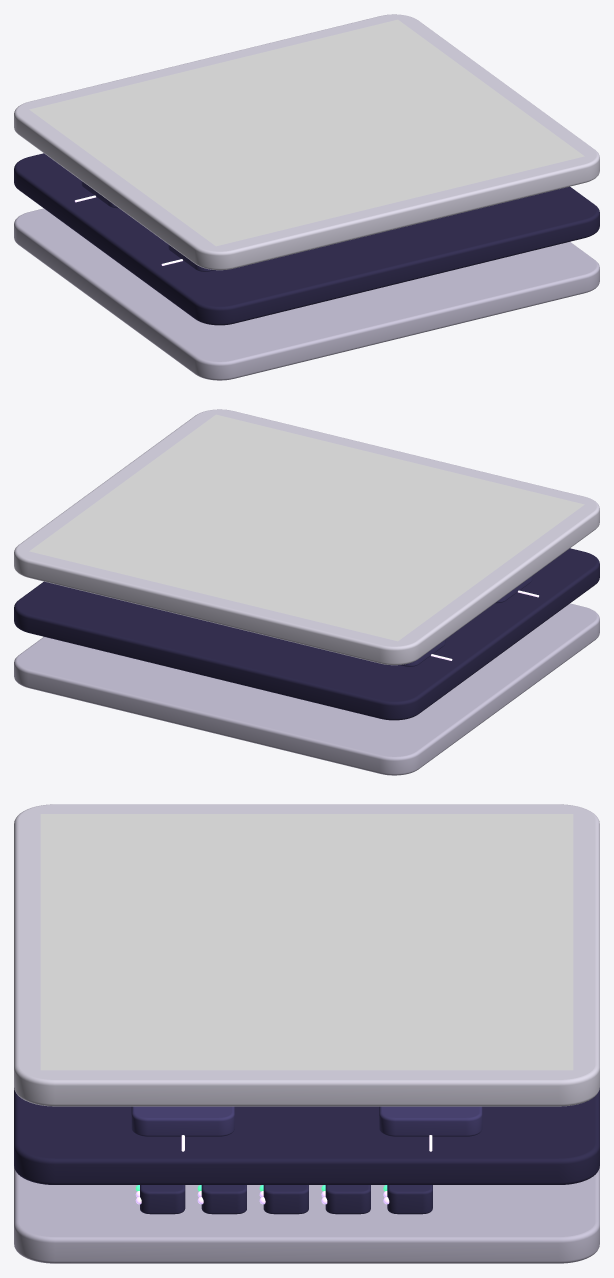
Rendered from system.glb.
The picture shows the model from 3 angles, top to bottom: view 1: azimuth 30°, elevation 25°; view 2: azimuth 150°, elevation 25°; view 3: azimuth 270°, elevation 25°; orthographic projection. The views are drawn at different scales.
Visible parts, largest first — view 1: Plane, infra_plate, backend_plate, ui_plate; view 2: Plane, infra_plate, backend_plate, ui_plate; view 3: Plane, ui_plate, backend_plate, infra_plate, mod_0.98_0.6, mod_0.98_-0.6, blade_4, blade_0, blade_1, blade_2, blade_3.
Boxes of the visible parts, bbox=[...] form: Plane: bbox=[29, 19, 584, 246]; infra_plate: bbox=[14, 208, 599, 380]; backend_plate: bbox=[14, 153, 599, 325]; ui_plate: bbox=[14, 14, 599, 270]; Plane: bbox=[29, 414, 584, 641]; infra_plate: bbox=[14, 603, 599, 775]; backend_plate: bbox=[14, 548, 599, 720]; ui_plate: bbox=[14, 409, 599, 665]; Plane: bbox=[40, 814, 573, 1070]; ui_plate: bbox=[14, 804, 599, 1106]; backend_plate: bbox=[14, 1088, 599, 1184]; infra_plate: bbox=[14, 1166, 599, 1263]; mod_0.98_0.6: bbox=[379, 1106, 482, 1136]; mod_0.98_-0.6: bbox=[131, 1106, 234, 1136]; blade_4: bbox=[140, 1185, 185, 1214]; blade_0: bbox=[387, 1185, 432, 1214]; blade_1: bbox=[325, 1185, 370, 1214]; blade_2: bbox=[263, 1185, 308, 1214]; blade_3: bbox=[201, 1185, 246, 1214].
Size of the model in its own units: 3.2 by 0.9815 by 2.84.
